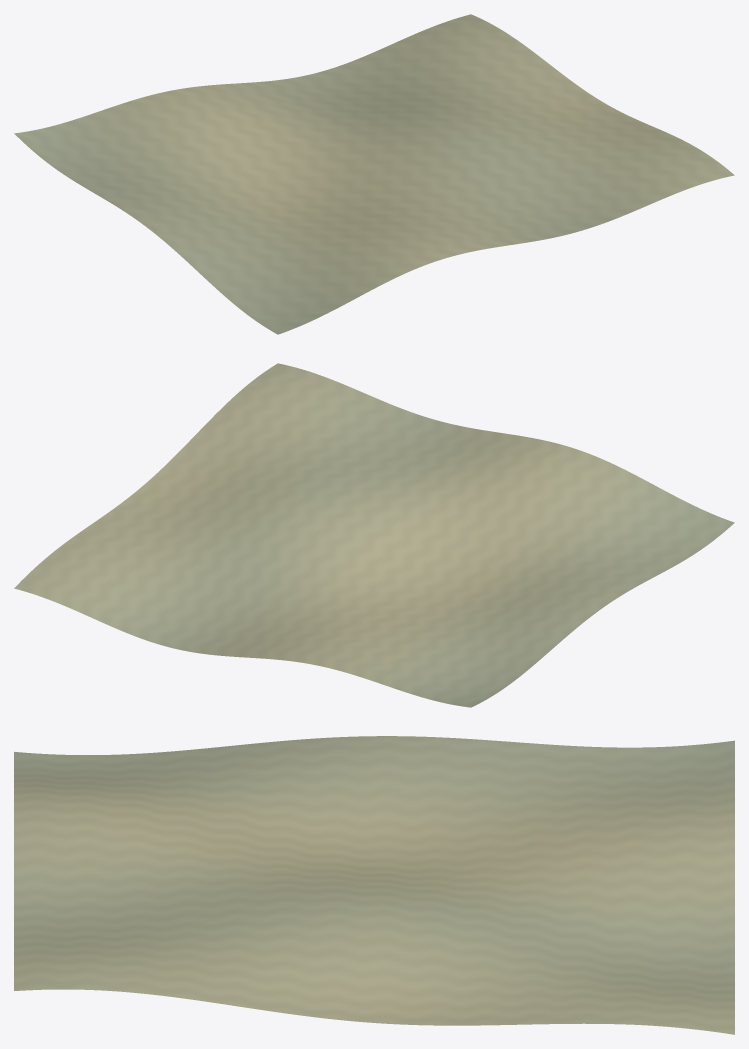
File: seabed_0.glb
3 renders of one model, top to bottom at view 1: azimuth 30°, elevation 25°; view 2: azimuth 150°, elevation 25°; view 3: azimuth 270°, elevation 25°, orthographic. The views are drawn at different scales.
Parts seen in each view (by area): view 1: seabed_0_painted_mesh; view 2: seabed_0_painted_mesh; view 3: seabed_0_painted_mesh.
Part boxes in pixels (<box>): seabed_0_painted_mesh: <box>14,14,734,334</box>; seabed_0_painted_mesh: <box>14,363,734,707</box>; seabed_0_painted_mesh: <box>14,736,734,1034</box>.
Size of the model in its own units: 130 by 14.79 by 130.
